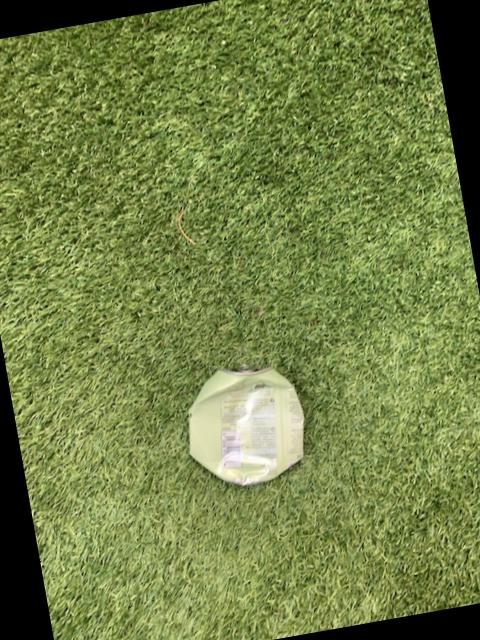metal: (189, 365, 304, 482)
